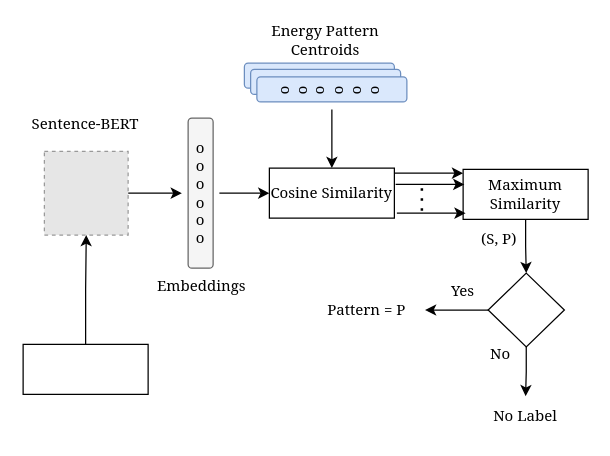
Some shapes in this 610 by 456 pixel diagram are drawn without their labels. Grey dashed boxes stand in for pictures. Each missing label, with the centre of its shape:
Input Text: the point at 85,368
S > 0.5: the point at 525,309
